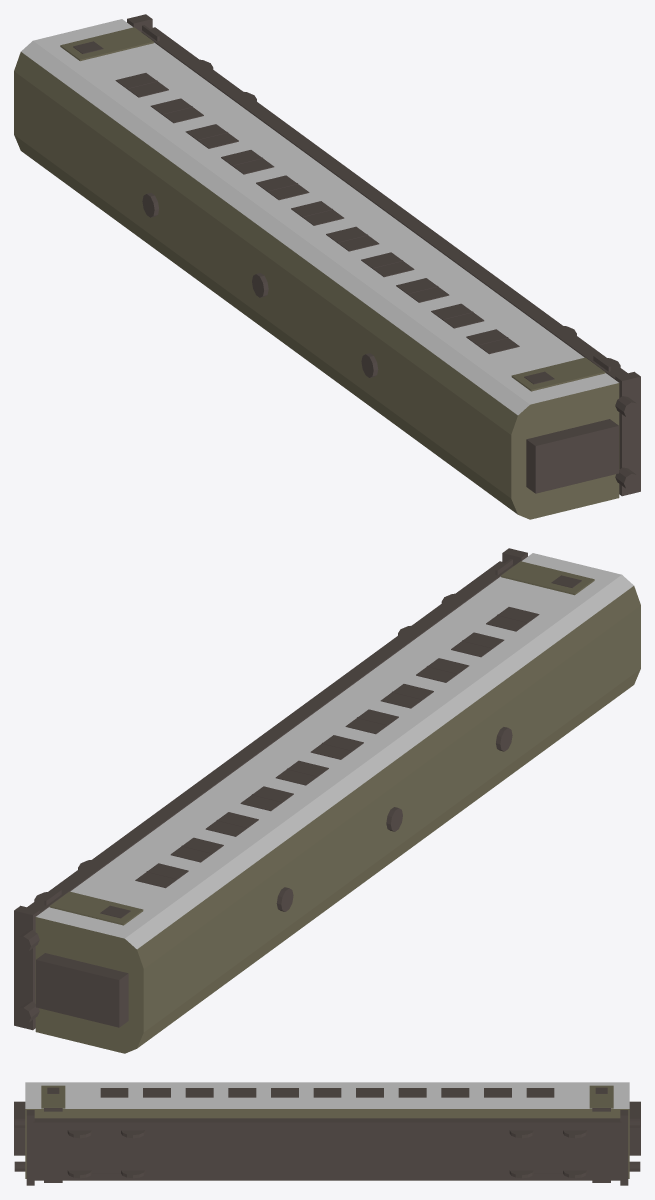
The model's file is SM_VagonAbandonado_v1_Volcado_LOD0.fbx.
The picture shows the model from 3 angles, top to bottom: view 1: azimuth 30°, elevation 25°; view 2: azimuth 150°, elevation 25°; view 3: azimuth 270°, elevation 25°; orthographic projection. The views are drawn at different scales.
Visible parts, largest first — view 1: SM_vagon_abandonado_v1_LOD0; view 2: SM_vagon_abandonado_v1_LOD0; view 3: SM_vagon_abandonado_v1_LOD0.
Boxes of the visible parts, box(x1,y1,x2,y2) form: SM_vagon_abandonado_v1_LOD0: box(14, 14, 640, 519); SM_vagon_abandonado_v1_LOD0: box(14, 548, 640, 1053); SM_vagon_abandonado_v1_LOD0: box(14, 1082, 640, 1185).
Size of the model in its own units: 4.12 by 3.08 by 23.55.
